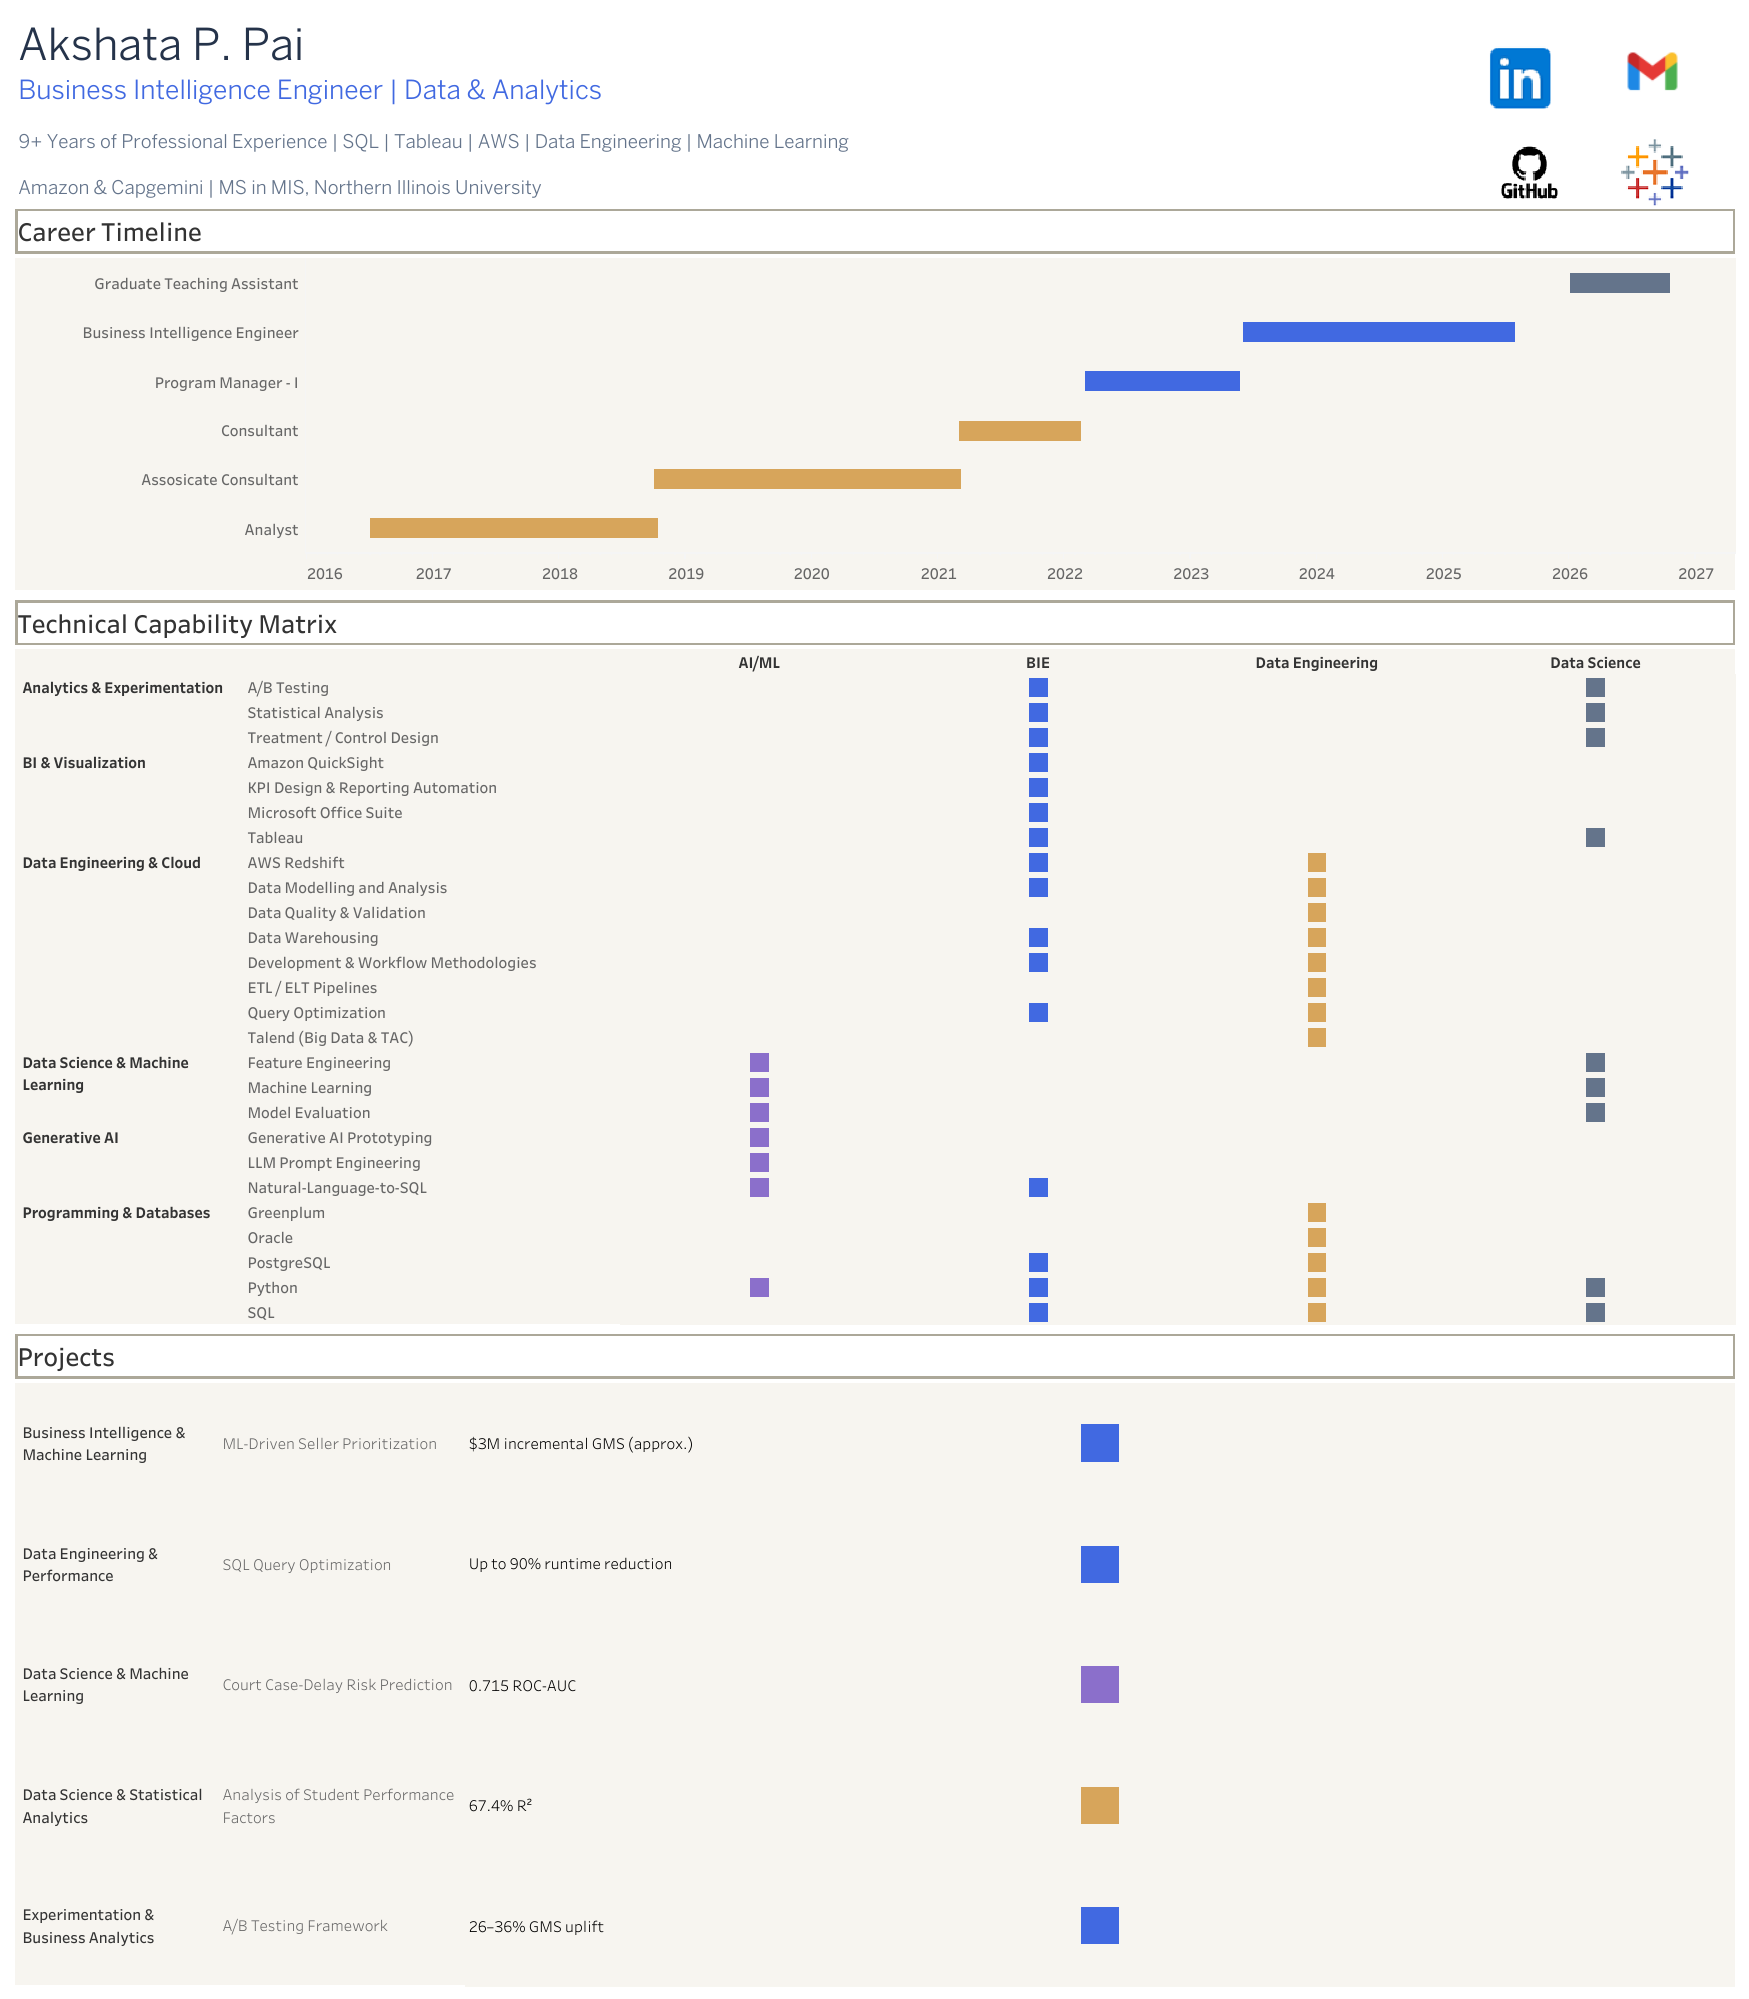

The page's visual inventory and layout, read from the dashboard file:
{"tool":"tableau","page":{"name":"Resume","canvas":[1400,1600],"ordinal":0},"visuals":[{"type":"text","box":[8,8,1384,184]},{"type":"dashboard-object","box":[1266,25,112,64]},{"type":"image","param":"Image/icons8-linkedin-logo-48.png","box":[1184,30,72,65]},{"type":"text","box":[823,51,287,36]},{"type":"image","param":"Image/Github.png","box":[1186,108,75,61]},{"type":"image","param":"Image/icons8-tableau-software-48.png","box":[1296,110,62,57]},{"type":"worksheet","title":"Career Timeline","mark":"GanttBar","rows":["Role"],"cols":["DateStart"],"box":[8,192,1384,313]},{"type":"worksheet","title":"Technical Capability Matrix","mark":"Square","rows":["Skill Category","Skill Name"],"cols":["Domain"],"box":[8,505,1384,594]},{"type":"worksheet","title":"Projects","mark":"Square","rows":["Project Category","Project Name"],"box":[8,1099,1384,493]}]}

Visuals, with their boxes in screenshot pixels (x1, y1, x2, y2), scaled from the page's 1400x1600 canvas onto the 1749x1999 screenshot:
text: select_region(10, 10, 1739, 240)
dashboard-object: select_region(1582, 31, 1722, 111)
image: select_region(1479, 37, 1569, 119)
text: select_region(1028, 64, 1387, 109)
image: select_region(1482, 135, 1575, 211)
image: select_region(1619, 137, 1697, 209)
"Career Timeline" worksheet (GanttBar marks): select_region(10, 240, 1739, 631)
"Technical Capability Matrix" worksheet (Square marks): select_region(10, 631, 1739, 1373)
"Projects" worksheet (Square marks): select_region(10, 1373, 1739, 1989)
